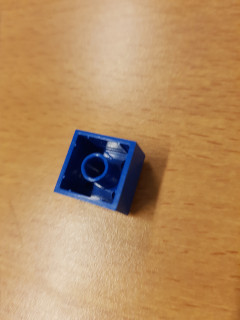2x2 blue: (52, 128, 146, 216)
